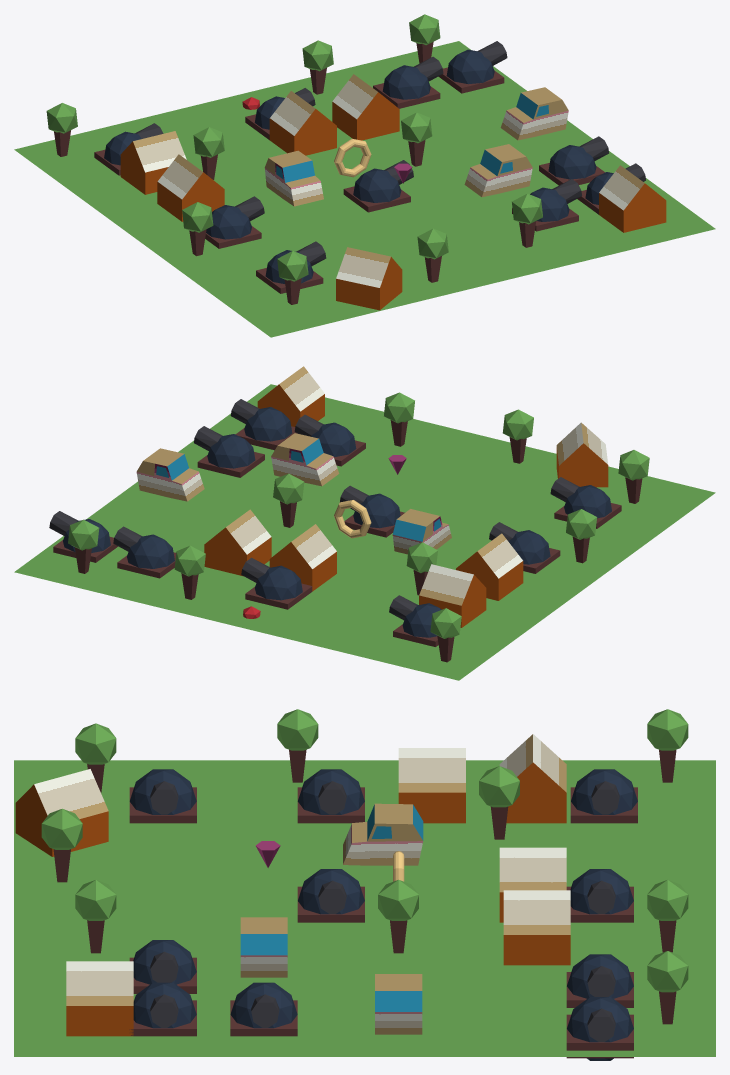
File: level3.gltf
The picture shows the model from 3 angles, top to bottom: view 1: azimuth 30°, elevation 25°; view 2: azimuth 150°, elevation 25°; view 3: azimuth 270°, elevation 25°; orthographic projection. The views are drawn at different scales.
Visible parts, largest first — view 1: Plane, Cube.006, Cube.004, Cube.005, Cube.002, Cube, Cube.001, car.002, car, car.003, canon.003, canon.005 (+18 smaller); view 2: Plane, Cube.005, Cube.001, Cube.006, Cube, Cube.002, car.002, car, canon.001, Cube.004, canon.006, canon.005 (+18 smaller); view 3: Plane, Cube.004, Cube.005, Cube.006, Cube, Cube.001, car.003, canon.003, canon, canon.008, canon.006, canon.007 (+17 smaller).
Boxes of the visible parts, bbox=[...] form: Plane: bbox=[14, 41, 715, 337]; Cube.006: bbox=[336, 247, 402, 310]; Cube.004: bbox=[599, 165, 666, 232]; Cube.005: bbox=[332, 74, 399, 140]; Cube.002: bbox=[269, 91, 336, 155]; Cube: bbox=[157, 154, 224, 221]; Cube.001: bbox=[120, 131, 186, 194]; car.002: bbox=[500, 87, 568, 140]; car: bbox=[464, 144, 532, 197]; car.003: bbox=[264, 150, 323, 206]; canon.003: bbox=[438, 41, 507, 93]; canon.005: bbox=[373, 56, 443, 108]; Plane: bbox=[14, 384, 715, 680]; Cube.005: bbox=[204, 509, 271, 576]; Cube.001: bbox=[419, 564, 486, 627]; Cube.006: bbox=[556, 422, 608, 487]; Cube: bbox=[456, 533, 523, 600]; Cube.002: bbox=[269, 524, 336, 591]; car.002: bbox=[136, 448, 204, 501]; car: bbox=[271, 433, 339, 486]; canon.001: bbox=[241, 557, 312, 609]; Cube.004: bbox=[257, 366, 324, 426]; canon.006: bbox=[194, 426, 264, 477]; canon.005: bbox=[113, 526, 176, 578]; Plane: bbox=[14, 760, 715, 1056]; Cube.004: bbox=[66, 961, 133, 1036]; Cube.005: bbox=[503, 890, 570, 965]; Cube.006: bbox=[15, 769, 108, 856]; Cube: bbox=[398, 748, 465, 823]; Cube.001: bbox=[499, 734, 566, 823]; car.003: bbox=[343, 803, 423, 865]; canon.003: bbox=[566, 997, 633, 1060]; canon: bbox=[570, 769, 637, 823]; canon.008: bbox=[129, 769, 196, 823]; canon.006: bbox=[230, 982, 297, 1036]; canon.007: bbox=[297, 769, 364, 823].
Size of the model in its own units: 21.02 by 3.09 by 20.87.
1 material, 1 textured.
